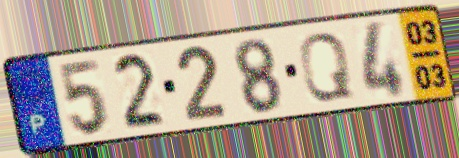2: (111, 49, 170, 133), (178, 42, 233, 126)
4: (360, 18, 408, 101)
5: (53, 55, 114, 139)
8: (229, 36, 285, 116)
Q: (296, 30, 357, 104)
